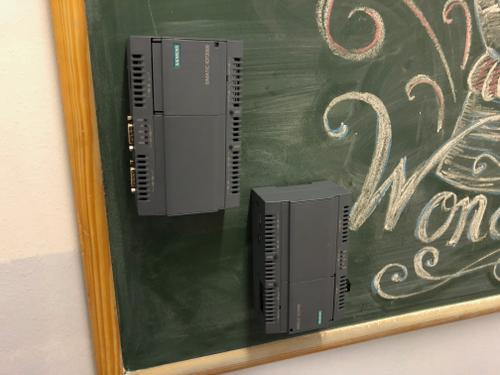device: (128, 36, 244, 217), (252, 181, 352, 335)
